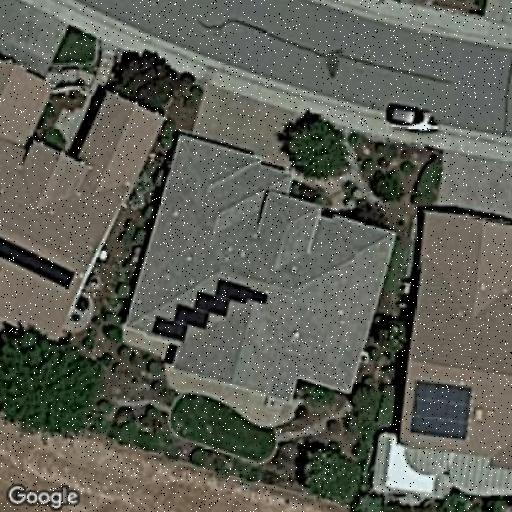solar-panel: (150, 276, 270, 346), (407, 374, 475, 442), (0, 235, 75, 291)
